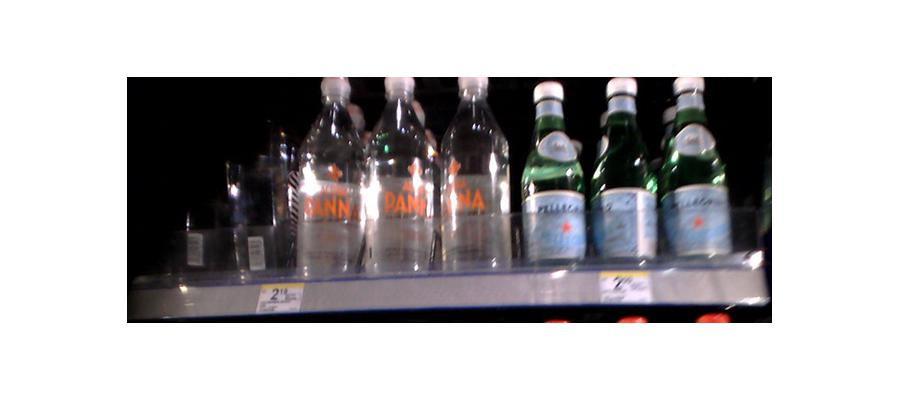bottle: (292, 73, 366, 280), (363, 74, 435, 276), (438, 77, 512, 271), (662, 75, 731, 268), (590, 77, 658, 266), (522, 82, 586, 276), (225, 108, 286, 276)
